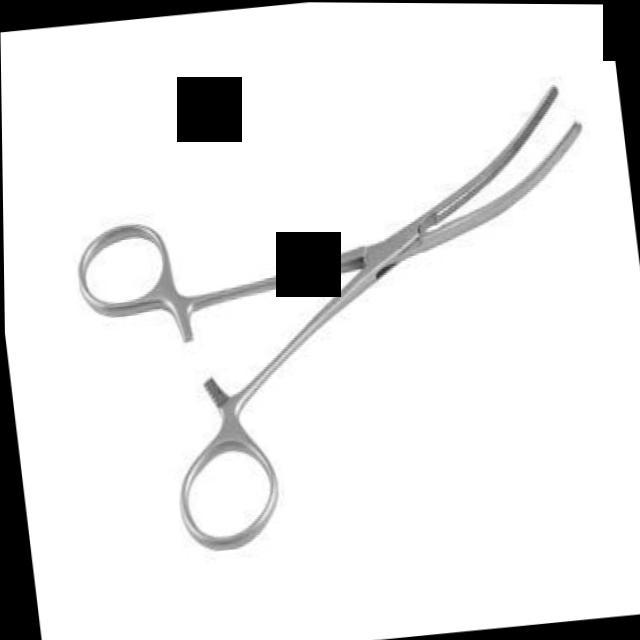Doyel Instestinal Forceps: (56, 74, 628, 562)
